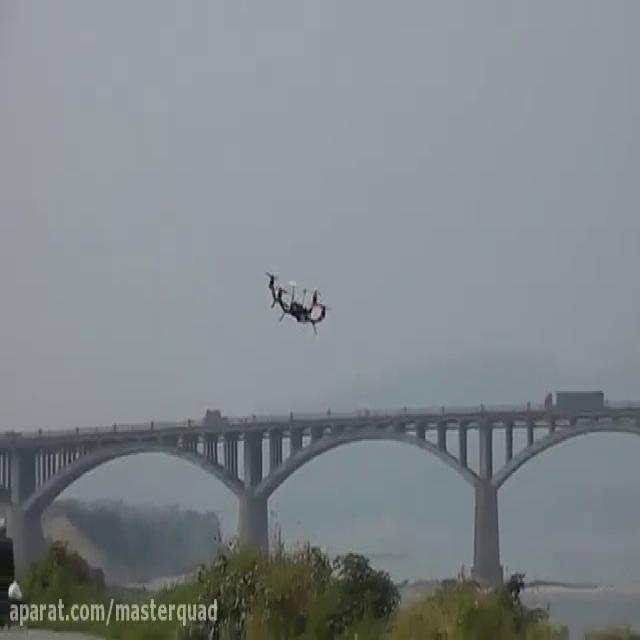drone: (262, 263, 337, 338)
